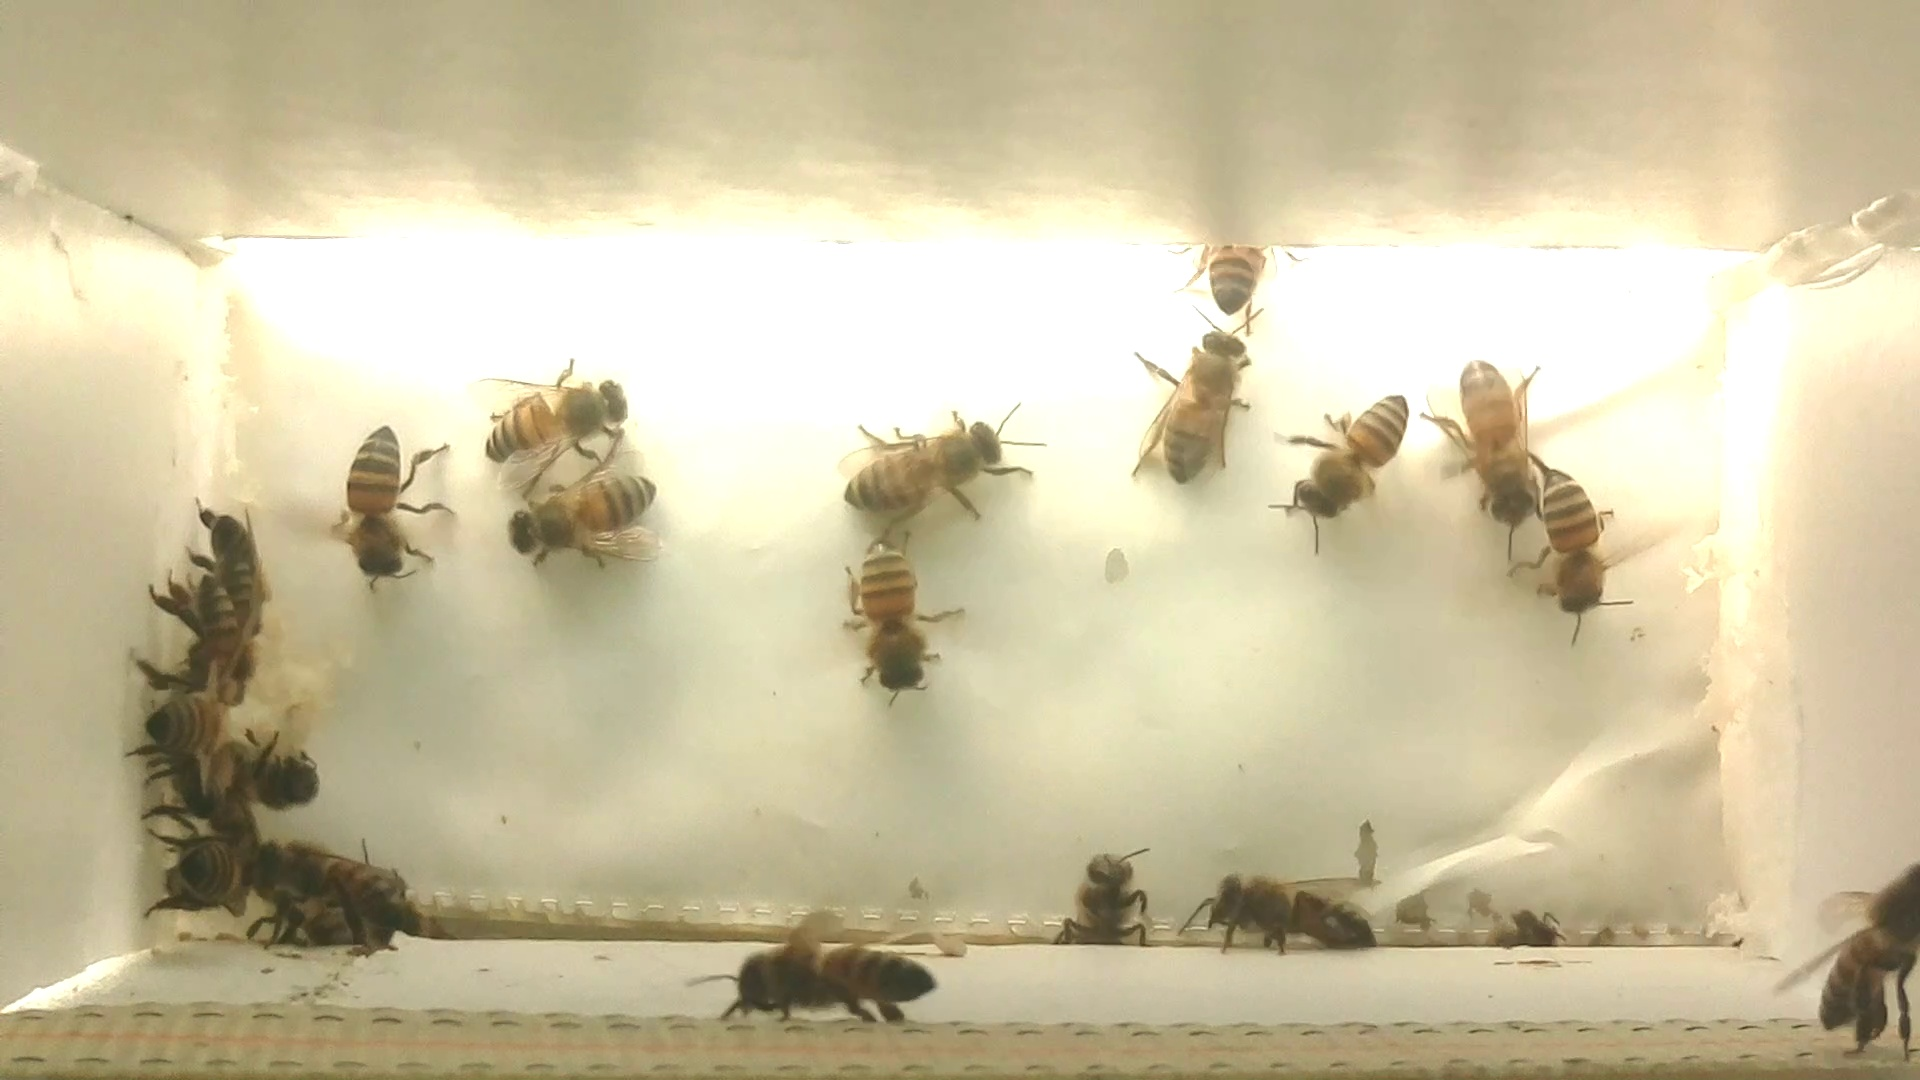bee: (281, 396, 464, 601), (1763, 839, 1920, 1077), (1240, 364, 1418, 551), (832, 393, 1044, 550), (702, 909, 957, 1038), (1406, 343, 1551, 564), (1122, 303, 1282, 498), (463, 344, 658, 495), (828, 525, 988, 708), (1501, 443, 1648, 630), (1174, 851, 1378, 973), (483, 462, 694, 580), (229, 833, 422, 960), (1158, 216, 1323, 340), (169, 489, 280, 651), (146, 574, 262, 711), (107, 646, 231, 770), (132, 804, 257, 924), (1056, 837, 1162, 964), (203, 735, 345, 820), (1487, 895, 1575, 953)
